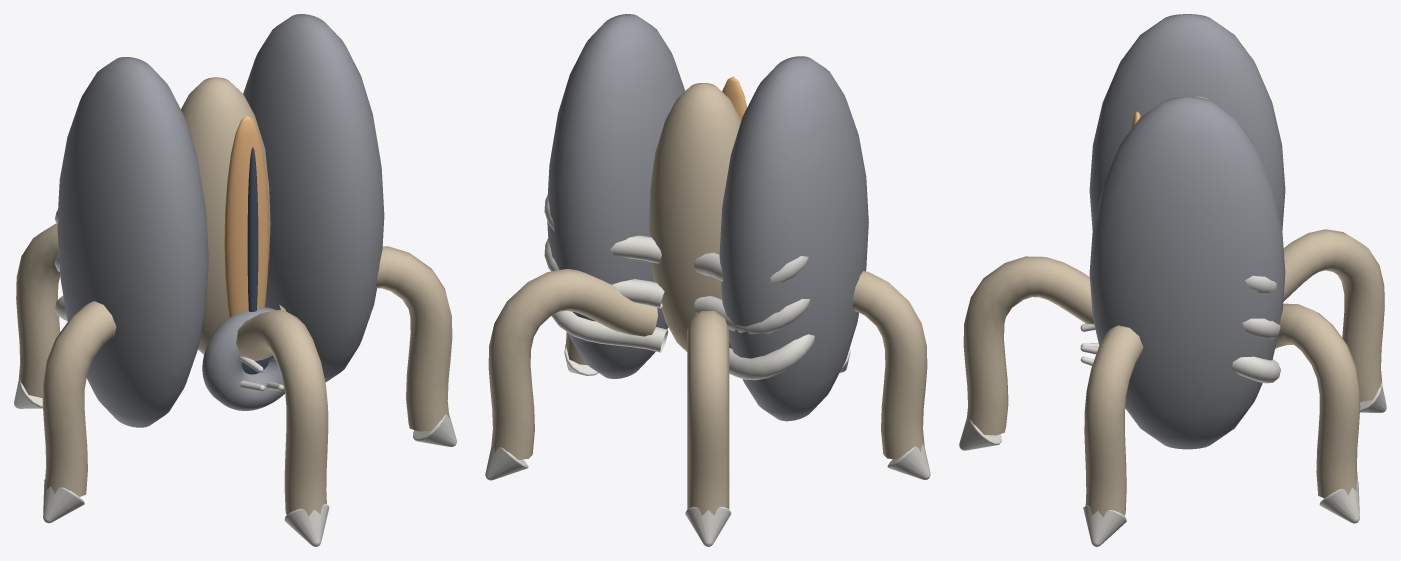
File: bio_window_sac_05_near.glb
3 views of the same model, side by side, from view 1: azimuth 30°, elevation 25°; view 2: azimuth 150°, elevation 25°; view 3: azimuth 270°, elevation 25° (orthographic). The views are drawn at different scales.
Visible parts, largest first — view 1: Separated curved shell, Crooked support.003, Internal receptor sac, Crooked support.002, Crooked support.004, Single vertical photoreceptor, Crooked support.001, Raised oral lip, Long internal pupil, Contact spur.003, Contact spur.002, Contact spur.004; view 2: Separated curved shell, Internal receptor sac, Crooked support, Shell window buttress, Crooked support.001, Crooked support.002, Contact spur.001, Contact spur, Contact spur.002, Single vertical photoreceptor; view 3: Separated curved shell, Crooked support.003, Crooked support, Crooked support.001, Crooked support.004, Shell window buttress, Contact spur.004, Contact spur, Contact spur.003.
Boxes of the visible parts, x1,y1,x2,y2 form: Separated curved shell: (57,14,384,427); Crooked support.003: (236,309,328,516); Internal receptor sac: (181,77,270,354); Crooked support.002: (42,301,116,496); Crooked support.004: (279,246,452,431); Single vertical photoreceptor: (224,115,268,318); Crooked support.001: (16,223,60,397); Raised oral lip: (202,307,284,410); Long internal pupil: (247,147,258,311); Contact spur.003: (284,504,329,546); Contact spur.002: (43,479,84,523); Contact spur.004: (413,414,456,446); Separated curved shell: (547,14,868,421); Internal receptor sac: (649,83,741,351); Crooked support: (488,269,657,459); Shell window buttress: (544,195,814,380); Crooked support.001: (687,311,729,515); Crooked support.002: (852,271,927,459); Contact spur.001: (685,507,731,546); Contact spur: (485,444,528,480); Contact spur.002: (887,444,930,479); Single vertical photoreceptor: (722,76,747,119); Separated curved shell: (1089,14,1285,449); Crooked support.003: (963,256,1093,435); Crooked support: (1275,303,1360,498); Crooked support.001: (1283,229,1384,402); Crooked support.004: (1084,325,1143,517); Shell window buttress: (1232,275,1280,383); Contact spur.004: (1083,505,1126,546); Contact spur: (1319,481,1359,523); Contact spur.003: (959,418,1001,450).
Bounding box in the file's own units: 2 × 2.05 × 1.96.
